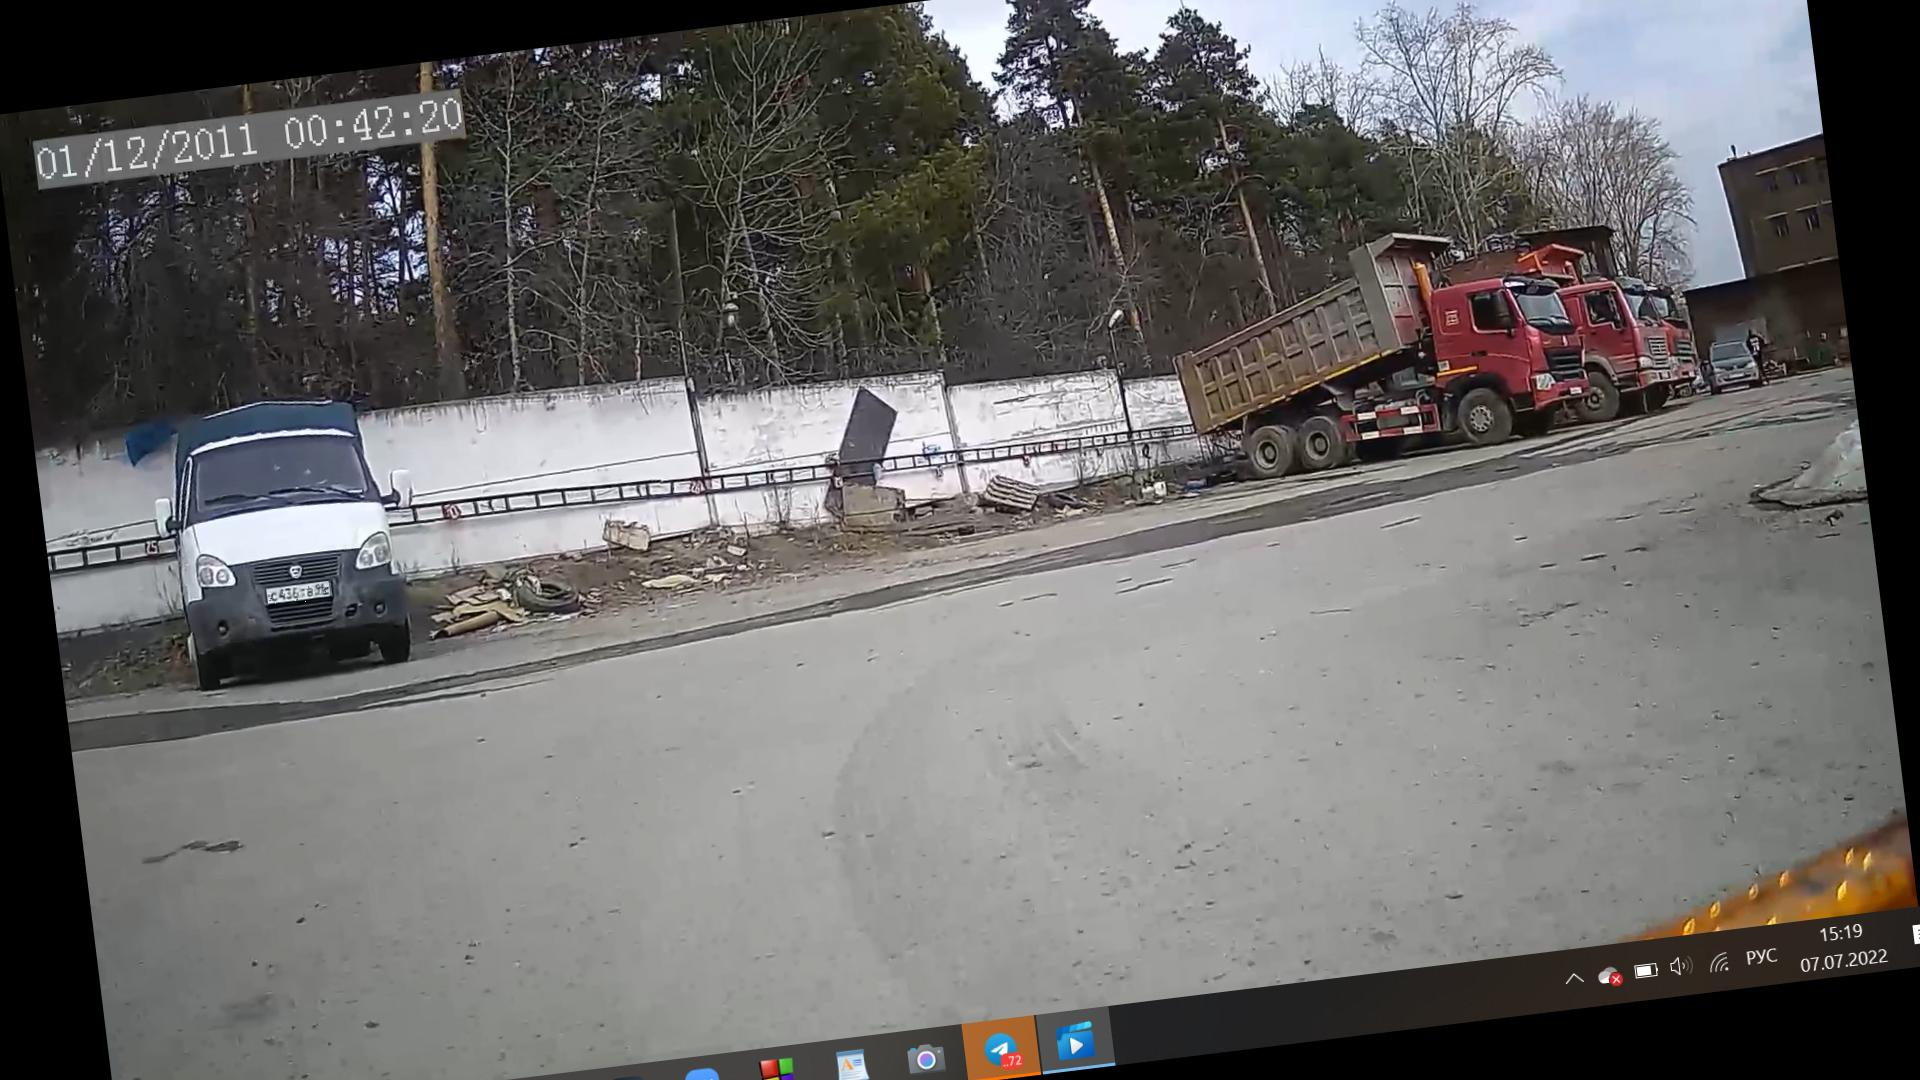plate: (268, 582, 334, 608)
